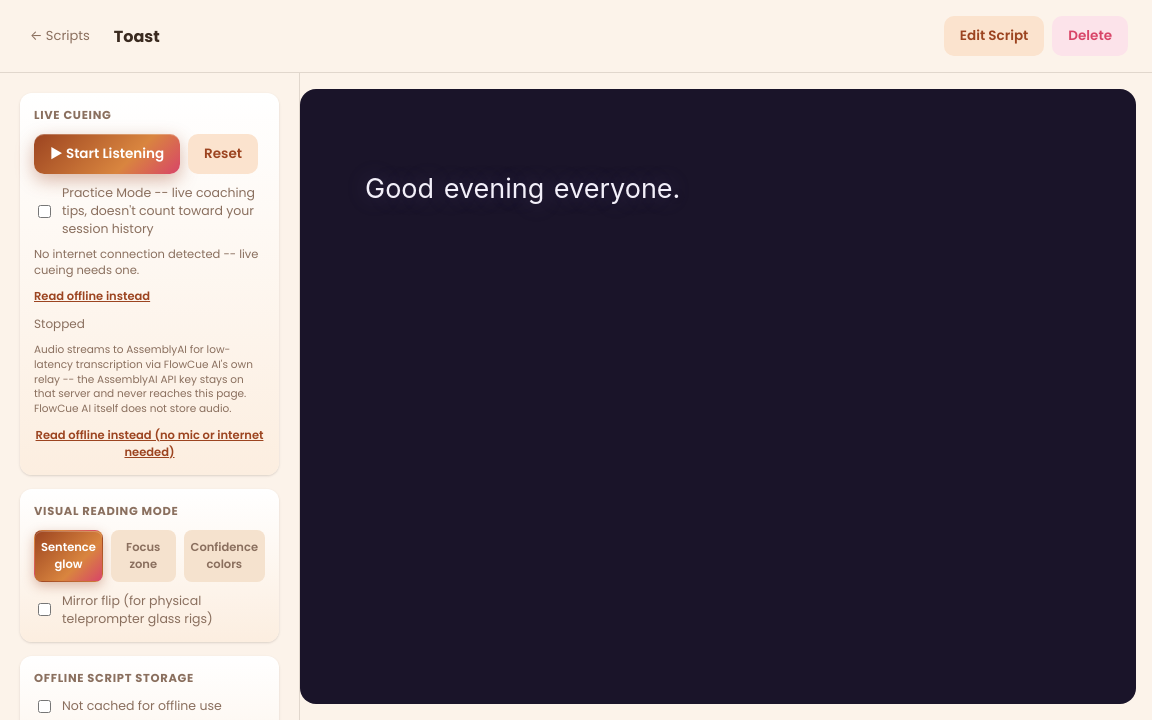
ScriptWorkspace offline reading › proactively suggests Offline Reading when no internet connection is detected
Expected: the text "No internet connection detected -- live cueing needs one. Read offline instead" is shown, [34, 246, 265, 305]
Click the button "Read offline instead" at (92,297), box [34, 288, 150, 305]
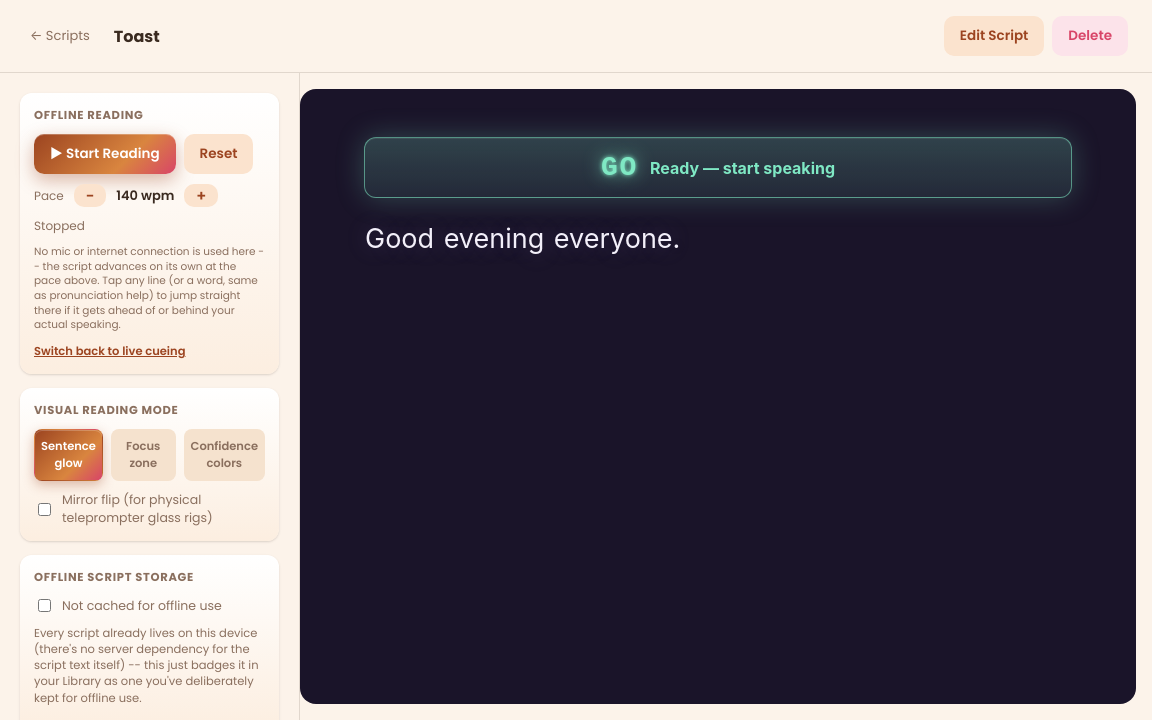
Result: the heading "Offline Reading" is shown at [34, 107, 144, 123]
